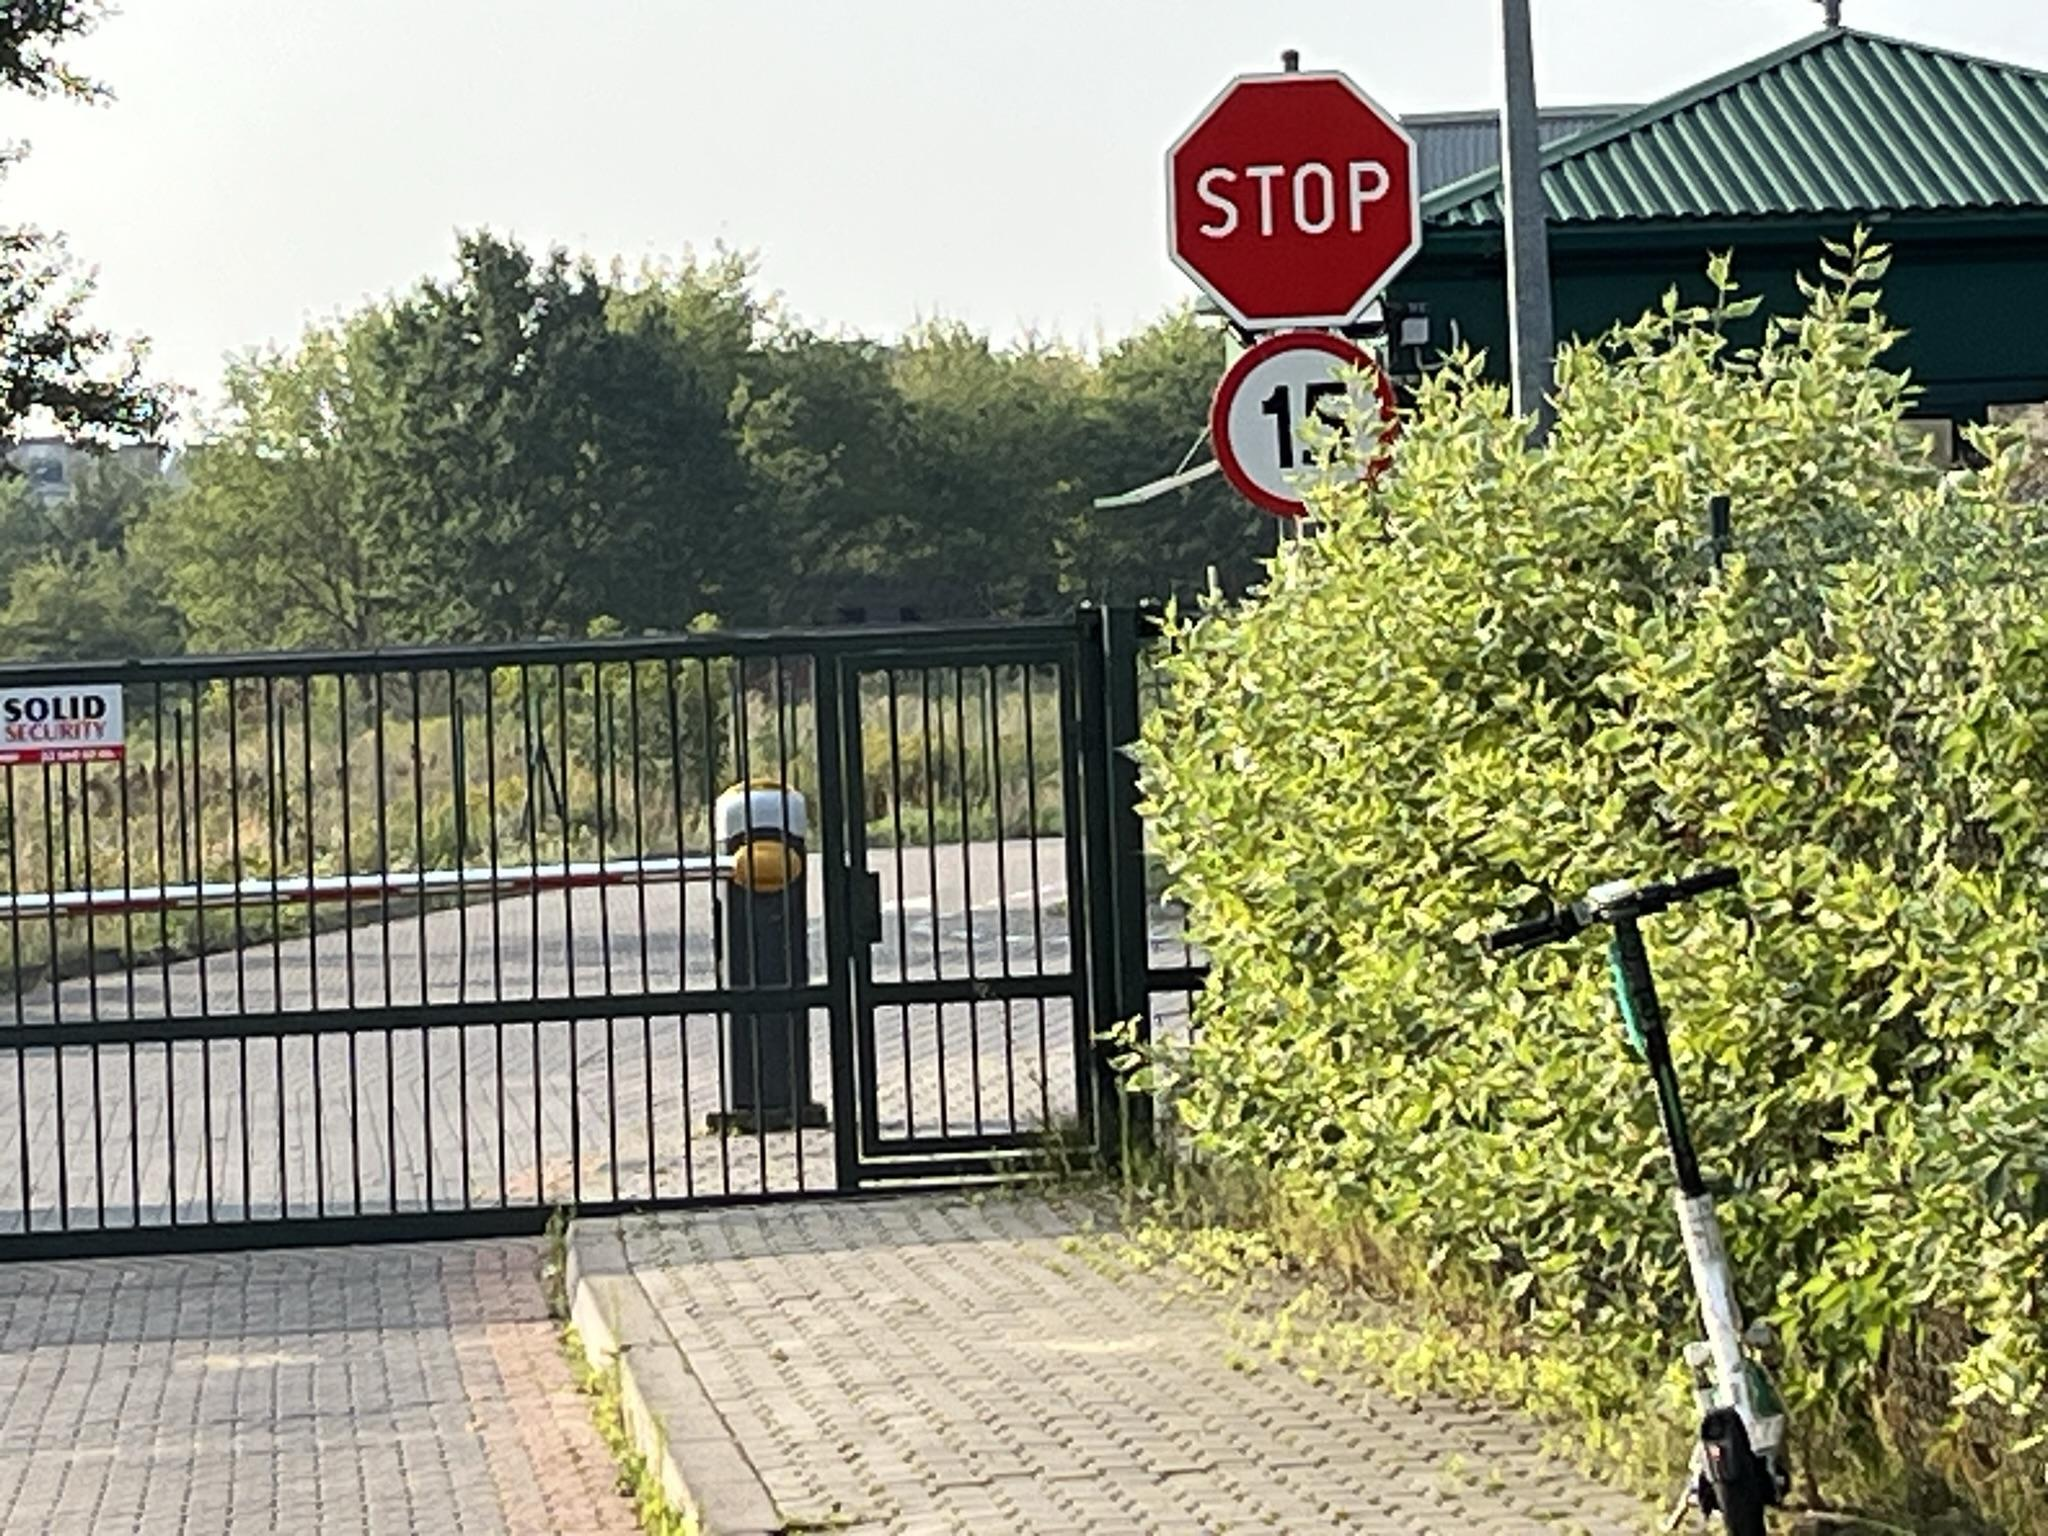prohibitory: (1163, 69, 1424, 329), (1208, 331, 1400, 528)
